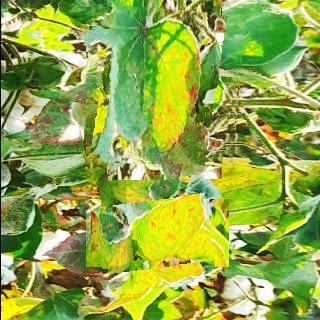blight: (85, 7, 242, 165), (101, 177, 213, 289)
